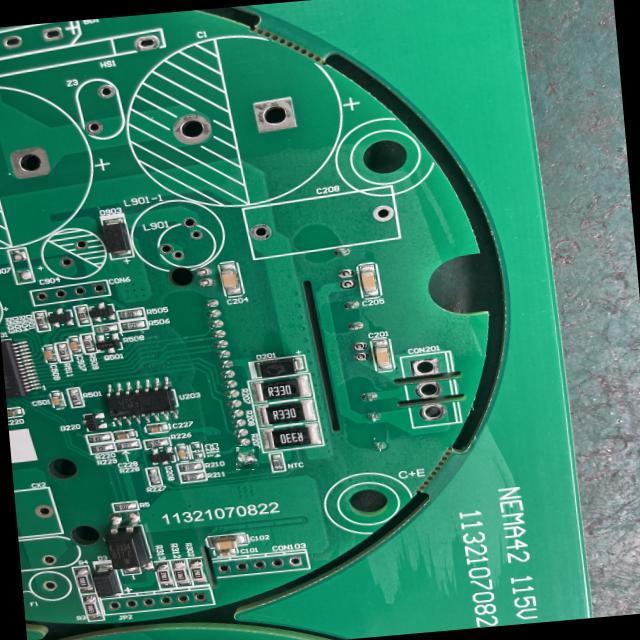damged: (235, 446, 259, 469)
